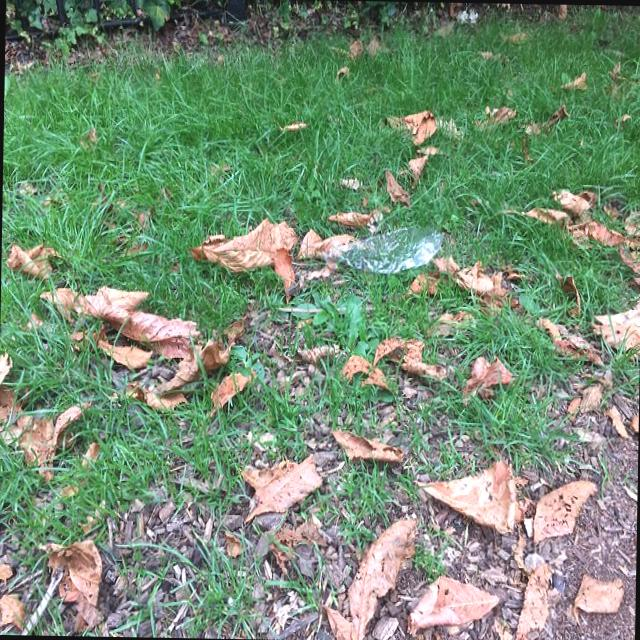Trash: (331, 218, 454, 276)
